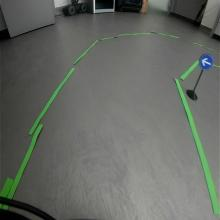left: (199, 52, 213, 71)
